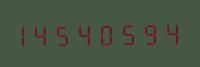five: (59, 20, 79, 47), (122, 19, 142, 46)
four: (164, 18, 184, 45), (38, 21, 58, 47), (80, 20, 100, 46)
nine: (143, 19, 163, 45)
one: (17, 21, 37, 48)
zero: (101, 19, 121, 46)
